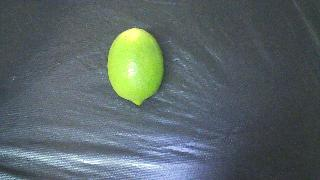LOCAL: (107, 28, 163, 105)
